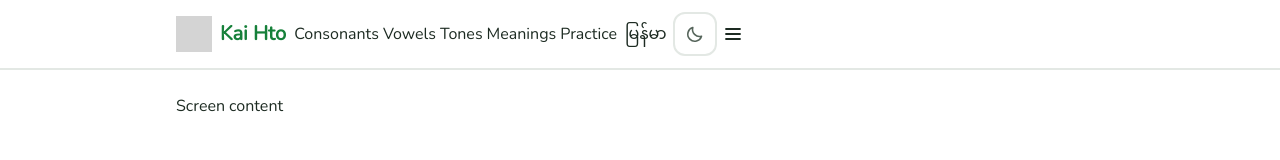
Scenario: Layout › opens and closes the phone menu with the menu button
Step 1. Click the button named "Menu" → (733, 34), box [723,24,743,44]
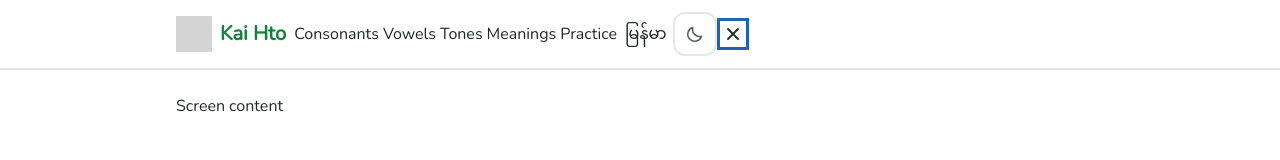
Expected: the button named "Menu" is expanded
Step 2. Click the button named "Menu" → (733, 34), box [723,24,743,44]
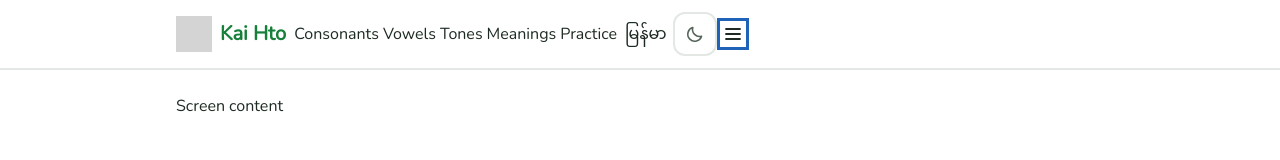
Expected: the button named "Menu" is collapsed, [723,24,743,44]
